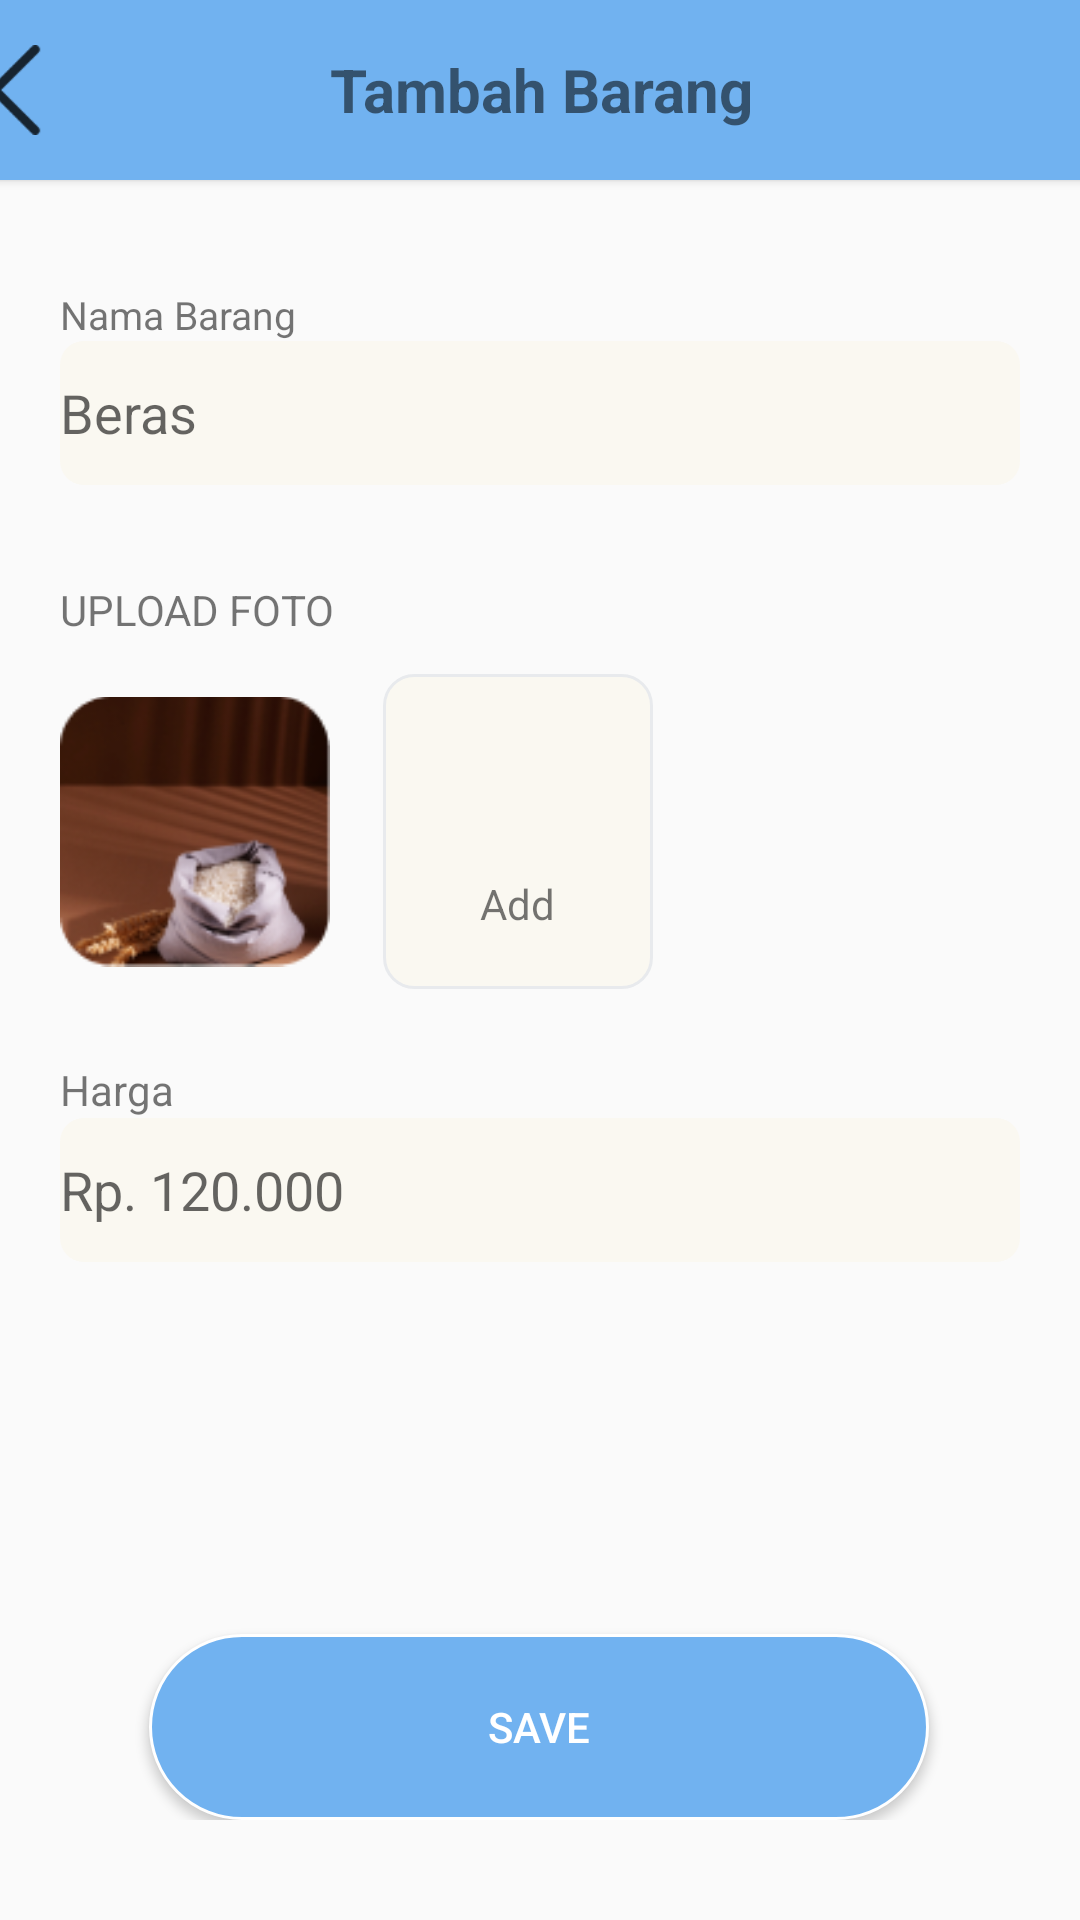

Named icons in this screenshot (1080 × 1920) and their centers, (x=x, y=y):
beras: (x=195, y=832)
